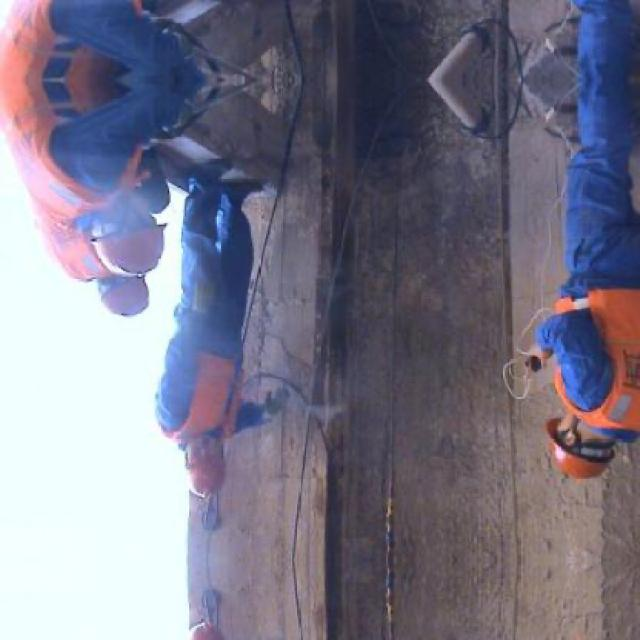con casco: (74, 157, 217, 285), (512, 350, 640, 486), (185, 416, 254, 520), (84, 254, 164, 334)
